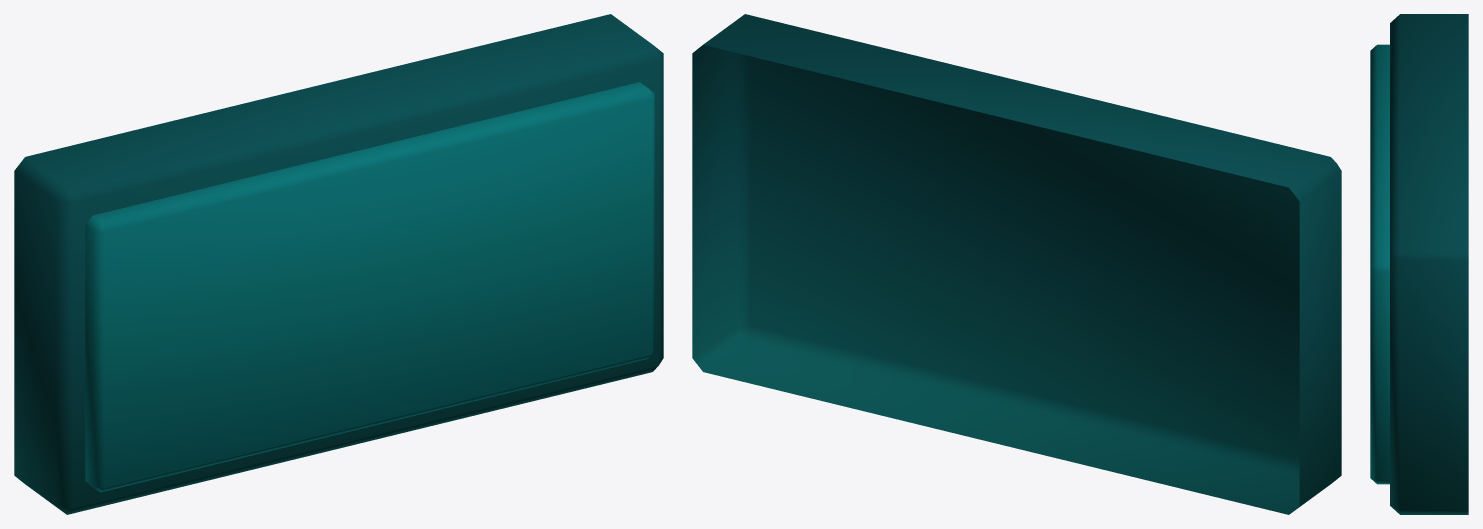
Rendered from ElectricBox_2_A_2.fbx.
3 views of the same model, side by side, from view 1: azimuth 30°, elevation 25°; view 2: azimuth 150°, elevation 25°; view 3: azimuth 270°, elevation 25° (orthographic). The views are drawn at different scales.
Visible parts, largest first — view 1: ElectricBox_2_A_2; view 2: ElectricBox_2_A_2; view 3: ElectricBox_2_A_2.
Part boxes in pixels (bbox=[...]): ElectricBox_2_A_2: bbox=[14, 14, 663, 514]; ElectricBox_2_A_2: bbox=[692, 14, 1341, 514]; ElectricBox_2_A_2: bbox=[1370, 14, 1468, 514].
Size of the model in its own units: 88.15 by 45.42 by 15.17.
